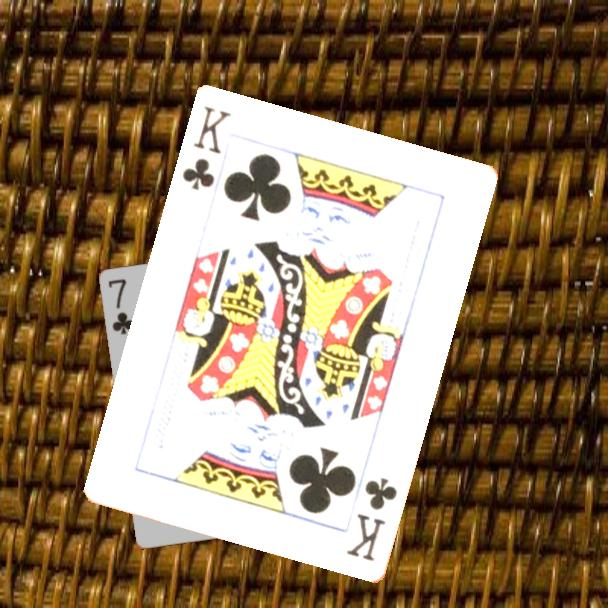c07: (105, 275, 137, 338)
c13: (343, 474, 401, 565), (179, 103, 235, 194)
